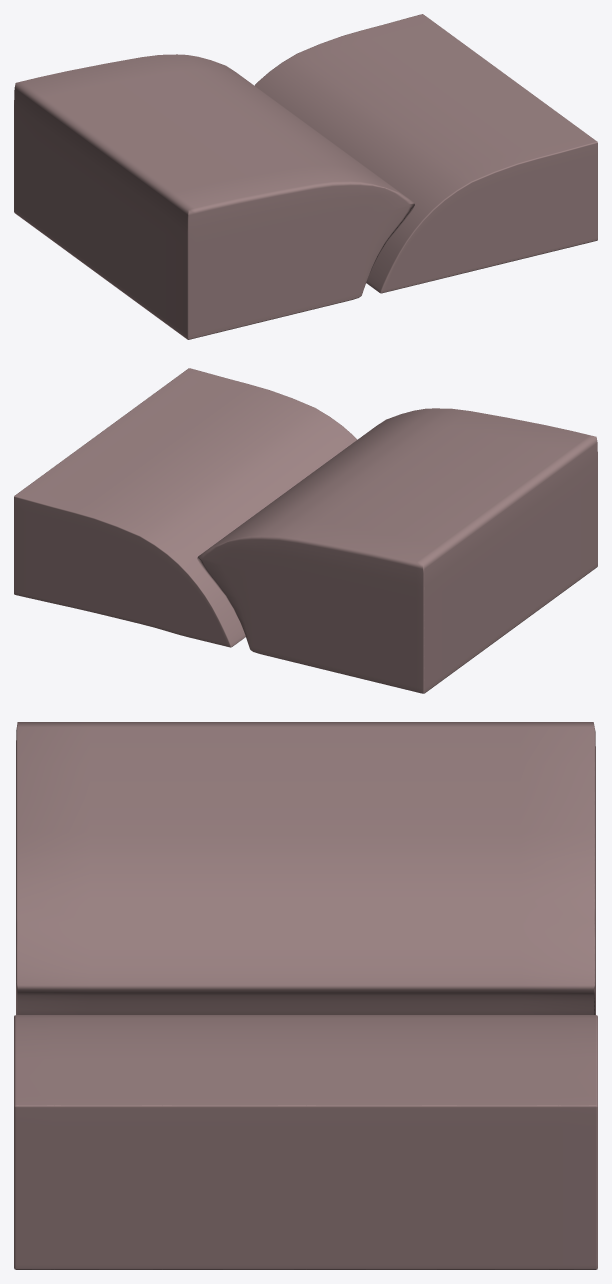
The model's file is Mantle.fbx.
3 renders of one model, top to bottom at view 1: azimuth 30°, elevation 25°; view 2: azimuth 150°, elevation 25°; view 3: azimuth 270°, elevation 25°, orthographic. The views are drawn at different scales.
Visible parts, largest first — view 1: polySurface6, polySurface5; view 2: polySurface6, polySurface5; view 3: polySurface6, polySurface5.
Part boxes in pixels (x1=…): polySurface6: x1=14, y1=54, x2=414, y2=339; polySurface5: x1=254, y1=14, x2=597, y2=293; polySurface6: x1=197, y1=408, x2=597, y2=693; polySurface5: x1=14, y1=368, x2=357, y2=647; polySurface6: x1=16, y1=722, x2=595, y2=1014; polySurface5: x1=14, y1=1015, x2=597, y2=1269.
Size of the model in its own units: 10.65 by 3.24 by 7.9.
